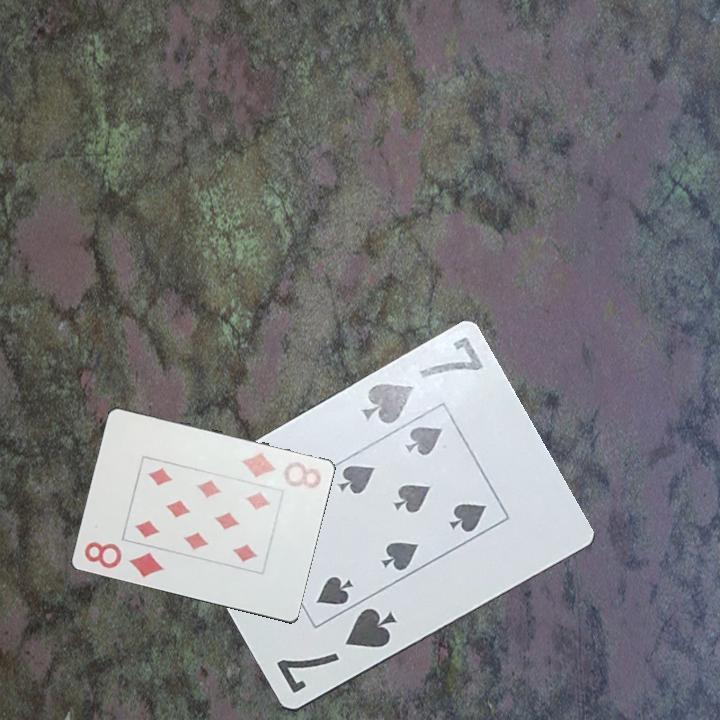7s: (358, 333, 487, 433), (272, 604, 400, 697)
8d: (80, 538, 167, 581), (237, 449, 324, 491)
